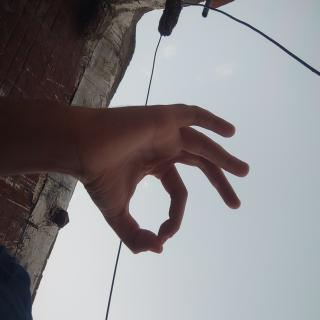Space: (74, 87, 194, 320)
